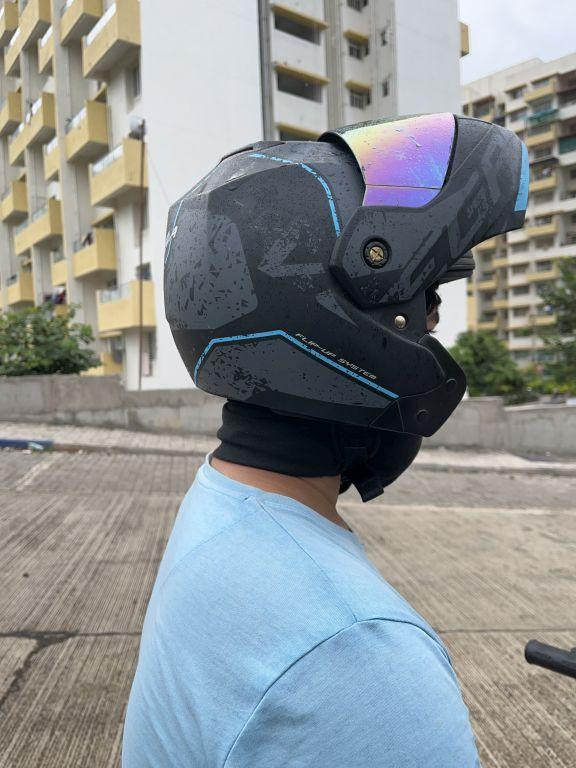helmet: (159, 89, 538, 537)
